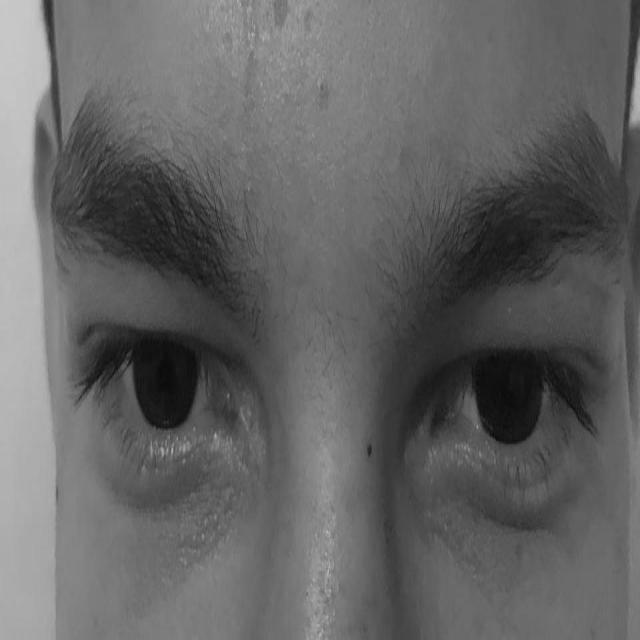real: (69, 194, 622, 538)
